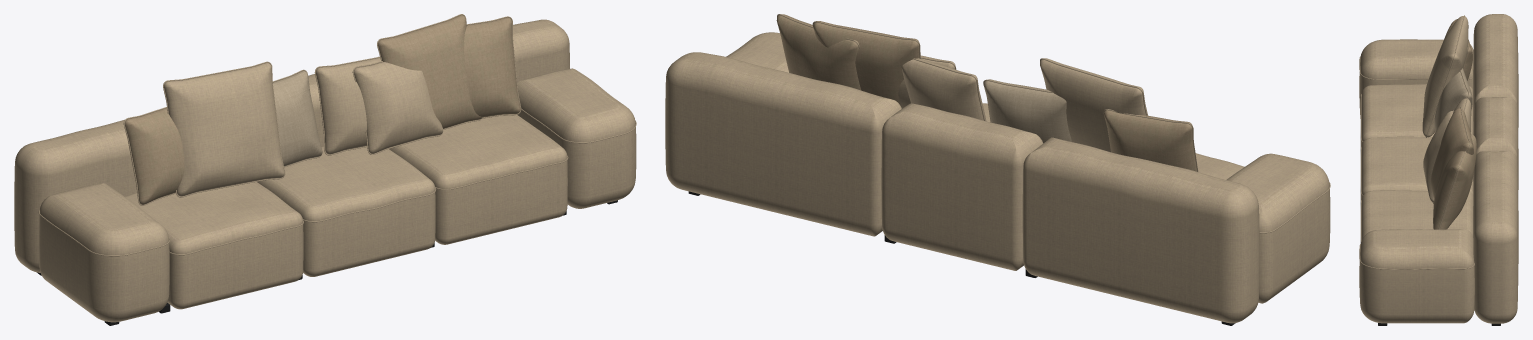
The model's file is straight.glb.
3 renders of one model, left to right at view 1: azimuth 30°, elevation 25°; view 2: azimuth 150°, elevation 25°; view 3: azimuth 270°, elevation 25°, orthographic. The views are drawn at different scales.
Parts seen in each view (by area): view 1: fabric (×2), pillows (×2), accent (×2); view 2: fabric, accent (×2), pillows (×2); view 3: fabric (×2), accent (×2), pillows (×2).
Part boxes in pixels (x1=…): fabric (×2): x1=14, y1=19, x2=636, y2=322; pillows (×2): x1=123, y1=14, x2=521, y2=205; accent (×2): x1=124, y1=15, x2=520, y2=204; fabric: x1=665, y1=32, x2=1330, y2=323; accent (×2): x1=776, y1=14, x2=1197, y2=171; pillows (×2): x1=777, y1=14, x2=1198, y2=171; fabric (×2): x1=1359, y1=14, x2=1518, y2=323; accent (×2): x1=1431, y1=19, x2=1476, y2=229; pillows (×2): x1=1422, y1=15, x2=1472, y2=229.
Size of the model in its own units: 3.3 by 1.05 by 1.01.
5 materials, 4 textured.
